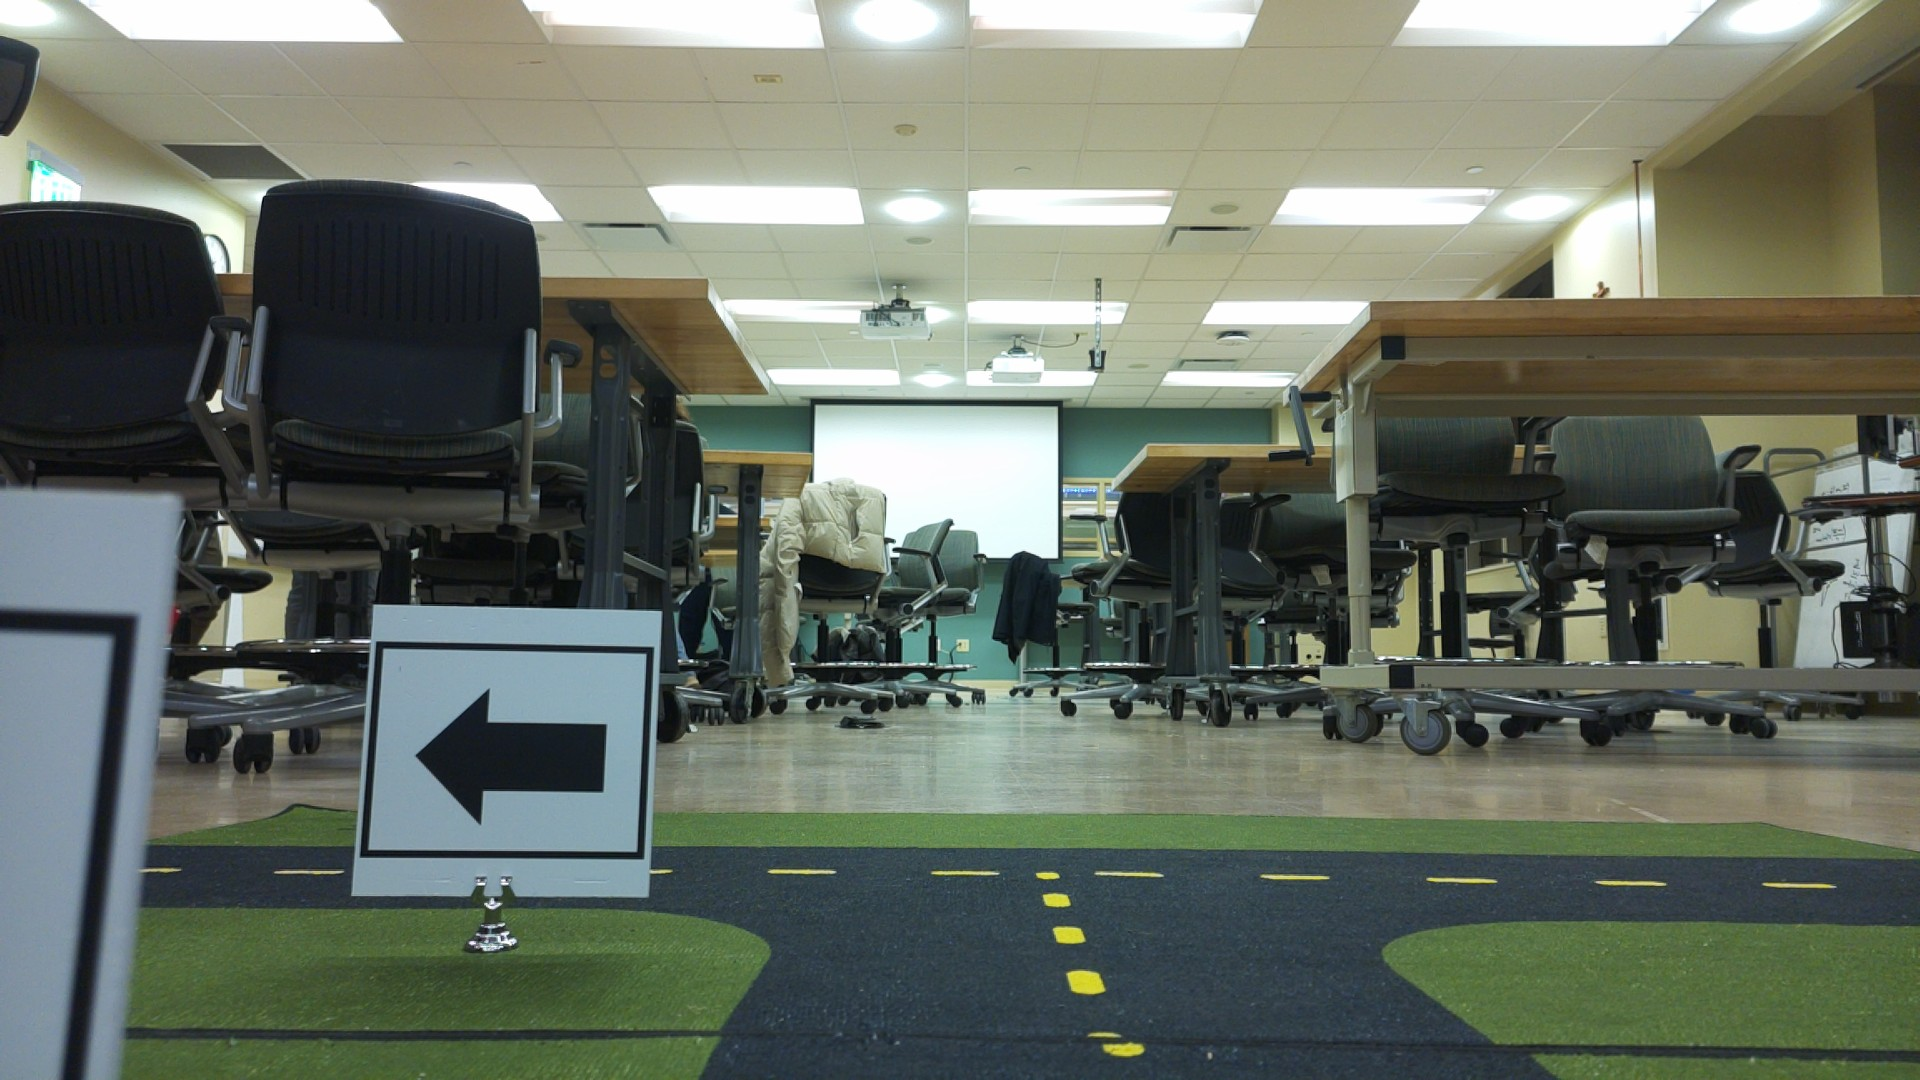turnleft: (367, 612, 650, 906)
